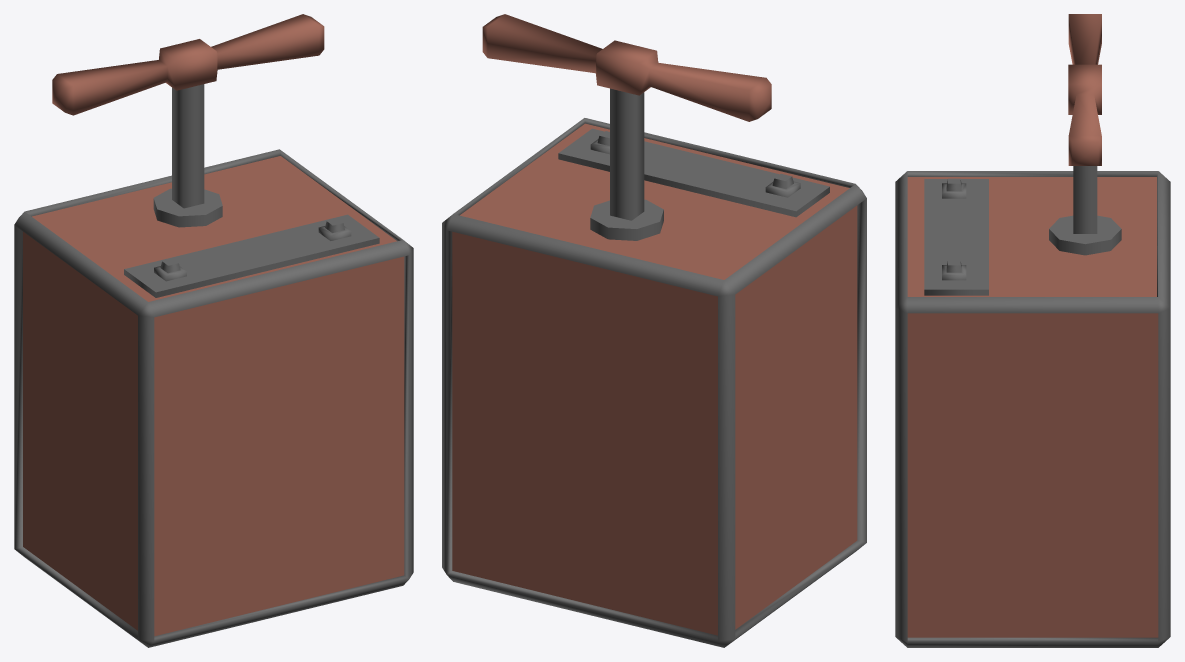
File: Dinamite_Detonador.fbx
3 renders of one model, left to right at view 1: azimuth 30°, elevation 25°; view 2: azimuth 150°, elevation 25°; view 3: azimuth 270°, elevation 25°, orthographic. The views are drawn at different scales.
Parts seen in each view (by area): view 1: Dinamite_Detonador; view 2: Dinamite_Detonador; view 3: Dinamite_Detonador.
Part boxes in pixels (bbox=[...]): Dinamite_Detonador: bbox=[14, 14, 413, 647]; Dinamite_Detonador: bbox=[442, 14, 866, 647]; Dinamite_Detonador: bbox=[895, 14, 1170, 647].
Bounding box in the file's own units: 0.3428 × 0.4023 × 0.7007.
